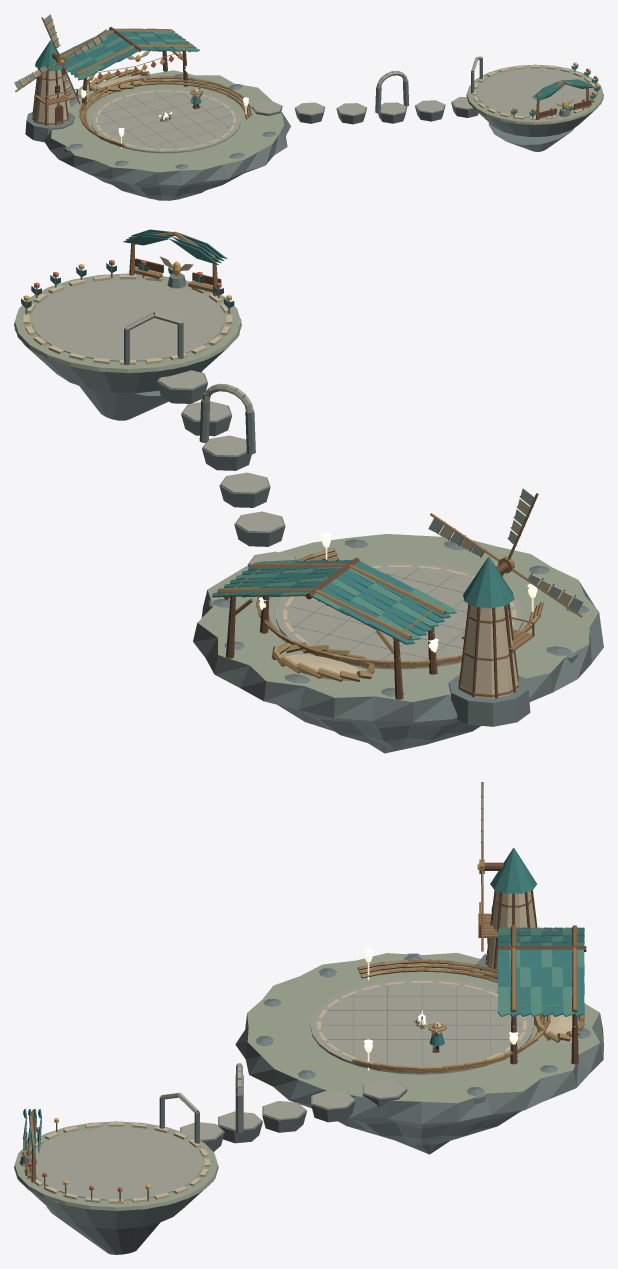
Rendered from adventure-hub.glb.
The picture shows the model from 3 angles, top to bottom: view 1: azimuth 30°, elevation 25°; view 2: azimuth 150°, elevation 25°; view 3: azimuth 270°, elevation 25°; orthographic projection. The views are drawn at different scales.
Visible parts, largest first — view 1: Terrain, SecretPath, Nest, WindmillTower, WindmillRotor, Pennants; view 2: Terrain, SecretPath, Nest, WindmillTower, WindmillRotor; view 3: Terrain, SecretPath, Nest, WindmillTower.
Boxes of the visible parts, box(x1,y1,x2,y2) form: Terrain: box(44, 70, 290, 200); SecretPath: box(252, 56, 603, 151); Nest: box(60, 27, 252, 147); WindmillTower: box(25, 40, 78, 142); WindmillRotor: box(14, 14, 107, 106); Pennants: box(88, 51, 182, 80); Terrain: box(193, 534, 603, 753); SecretPath: box(14, 229, 296, 566); Nest: box(212, 548, 543, 699); WindmillTower: box(448, 557, 534, 726); WindmillRotor: box(428, 488, 583, 617); Terrain: box(235, 953, 603, 1154); SecretPath: box(14, 1063, 407, 1254); Nest: box(352, 925, 586, 1073); WindmillTower: box(477, 848, 537, 979).
Bounding box in the file's own units: 103 × 42.53 × 77.21.
